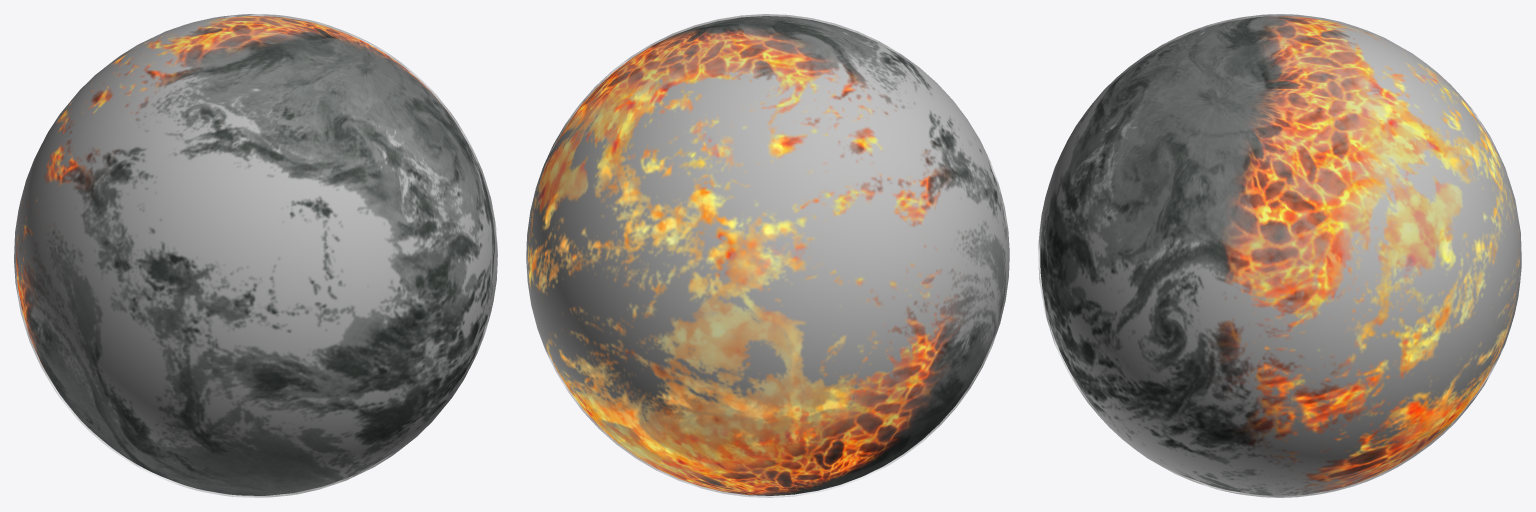
3 views of the same model, side by side, from view 1: azimuth 30°, elevation 25°; view 2: azimuth 150°, elevation 25°; view 3: azimuth 270°, elevation 25° (orthographic).
Visible parts, largest first — view 1: clouds, planet; view 2: clouds, planet; view 3: clouds, planet.
Part boxes in pixels (bbox=[...]): clouds: bbox=[14, 14, 497, 497]; planet: bbox=[16, 16, 494, 495]; clouds: bbox=[526, 14, 1009, 497]; planet: bbox=[528, 16, 1006, 495]; clouds: bbox=[1038, 14, 1521, 497]; planet: bbox=[1040, 16, 1519, 495].
Size of the model in its own units: 2.02 by 2.02 by 2.01.
Materials: 2 (2 with a texture image).
